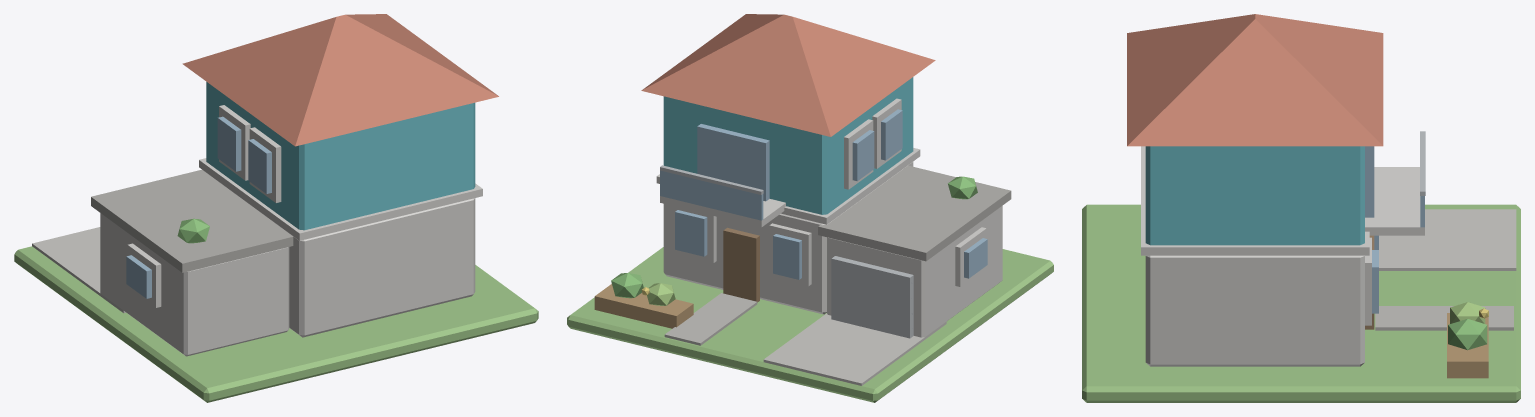
File: residencial__casa_sobrado.glb
The picture shows the model from 3 angles, left to right: view 1: azimuth 30°, elevation 25°; view 2: azimuth 150°, elevation 25°; view 3: azimuth 270°, elevation 25°; orthographic projection. The views are drawn at different scales.
Parts seen in each view (by area): view 1: residencial__casa_sobrado; view 2: residencial__casa_sobrado; view 3: residencial__casa_sobrado.
Part boxes in pixels (x1,y1,x2,y2): residencial__casa_sobrado: (14, 14, 538, 402); residencial__casa_sobrado: (567, 14, 1053, 402); residencial__casa_sobrado: (1082, 14, 1520, 402).
Bounding box in the file's own units: 1.9 × 1.53 × 1.9.
